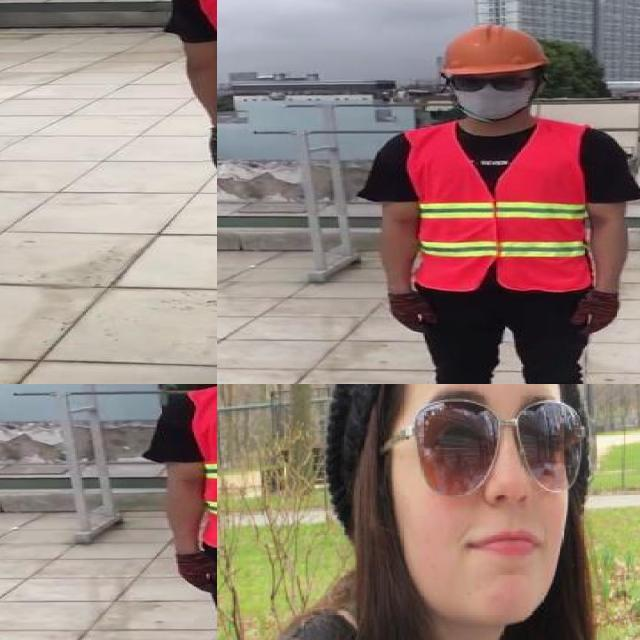face_mask: (444, 70, 538, 116)
face_nomask: (407, 392, 582, 578)
glasses: (399, 384, 587, 501), (440, 72, 533, 94)
hand_glove: (388, 292, 438, 334), (572, 292, 618, 334), (174, 552, 217, 594), (207, 130, 217, 171)
head_helmet: (438, 17, 544, 74)
person: (358, 22, 640, 384), (217, 384, 610, 640), (166, 0, 217, 384), (147, 384, 217, 640)
vest: (411, 122, 592, 293)
